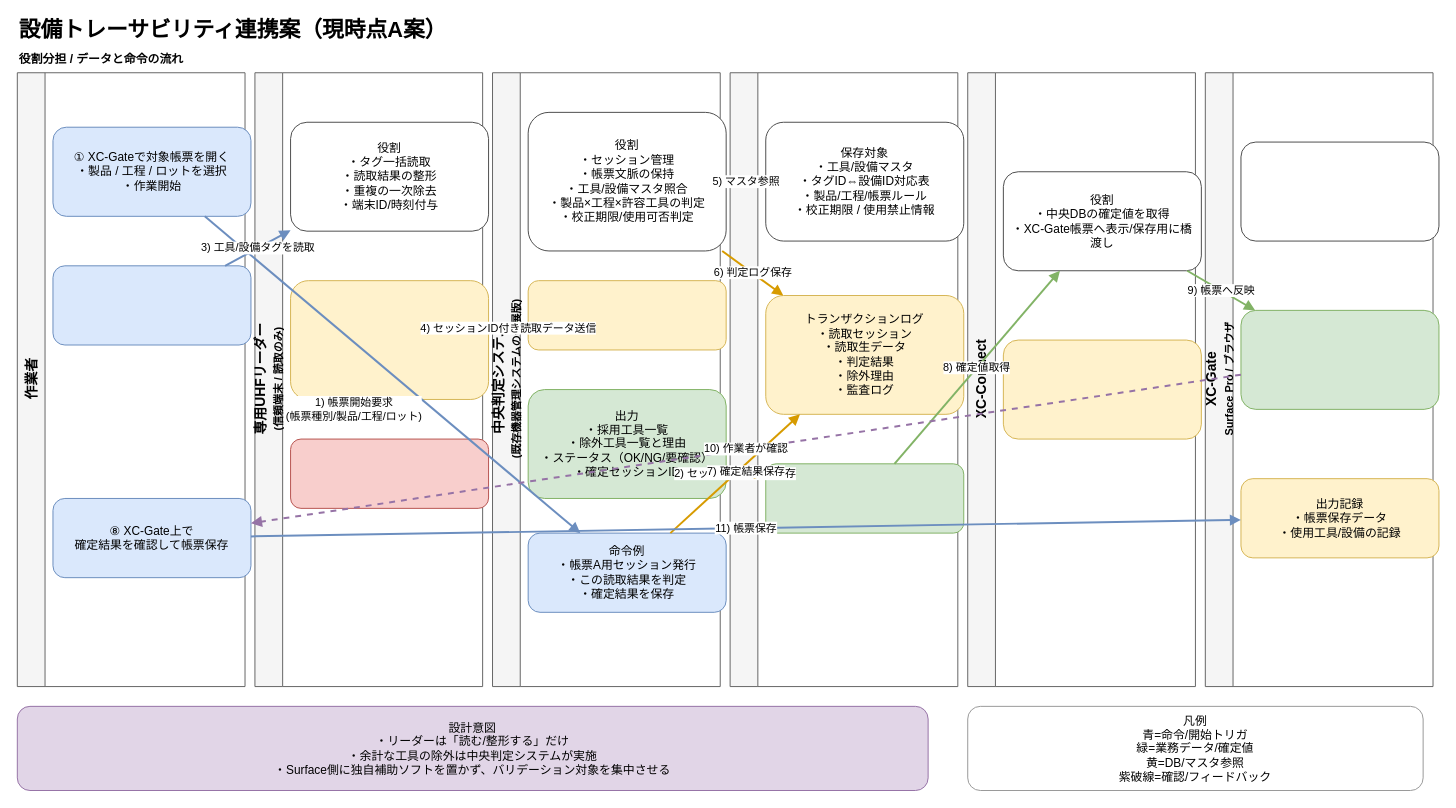
The diagram is 1456 pixels wide and 808 high, and some of its shapes have lost their labels. The shapes that lost their labels are listed below. From the top down, each one's box as (x1, y1, x2, y2) in pixels, then its label:
(1240, 141, 1439, 241): 役割 ・帳票表示 ・判定済みデータの受領 ・帳票保存
(52, 265, 251, 345): ② 専用UHFリーダーで 使用工具・設備タグを一括読取
(527, 280, 726, 350): 入力 A. XC-Gateからの帳票開始要求 B. リーダーからの読取データ
(290, 280, 489, 399): 送信データ ・セッションID ・EPC/タグ一覧 ・読取時刻 ・端末ID ・作業者ID（必要時）
(1240, 309, 1439, 409): 帳票A/B/C… 各帳票は工具候補を持たず、 中央判定済みの結果を参照
(729, 72, 958, 687): 中央DB
(1002, 339, 1201, 439): 扱うもの ・設備ID / 設備名 ・工具一覧 ・判定結果 ・必要なら警告文言
(290, 438, 489, 508): ※帳票ごとの判定はしない （余計な工具の除外は中央側）
(765, 463, 964, 533): XC-Gateへ渡す確定値 ・帳票反映用の最終データ
